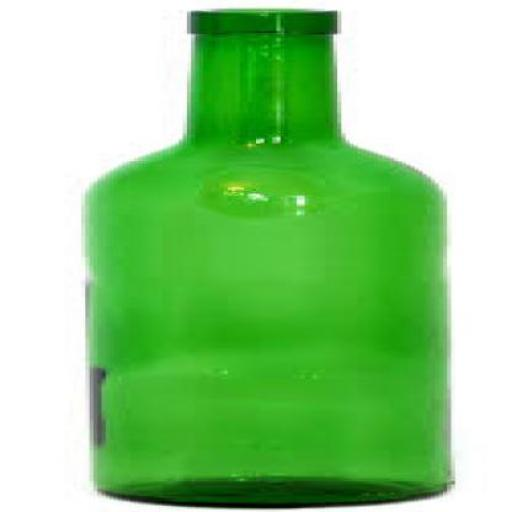glass: (86, 7, 448, 507)
